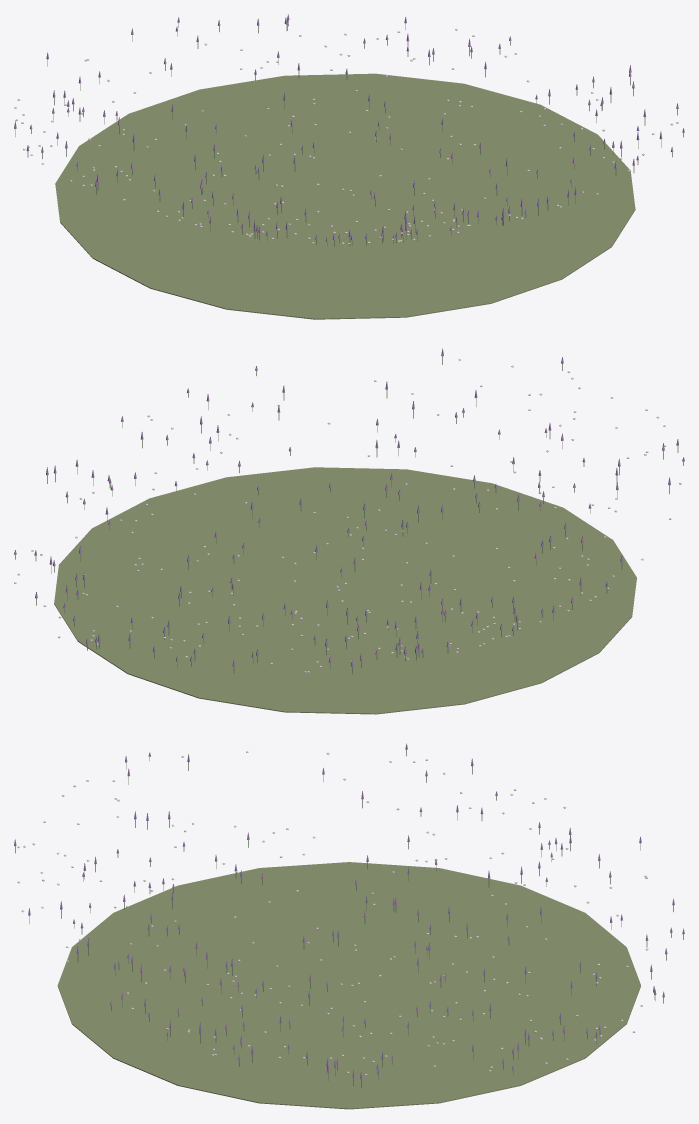
The model's file is Mist_Meadow.fbx.
The picture shows the model from 3 angles, top to bottom: view 1: azimuth 30°, elevation 25°; view 2: azimuth 150°, elevation 25°; view 3: azimuth 270°, elevation 25°; orthographic projection.
Visible parts, largest first — view 1: Mist_Meadow; view 2: Mist_Meadow; view 3: Mist_Meadow.
Part boxes in pixels (left/top/right/bottom): Mist_Meadow: left=14, top=14, right=684, bottom=319; Mist_Meadow: left=14, top=348, right=684, bottom=714; Mist_Meadow: left=14, top=743, right=684, bottom=1109.
Bounding box in the file's own units: 27.66 × 5.6 × 27.6.
